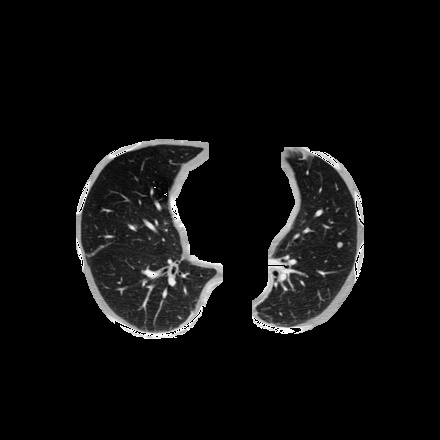PN: (336, 242, 342, 248)
